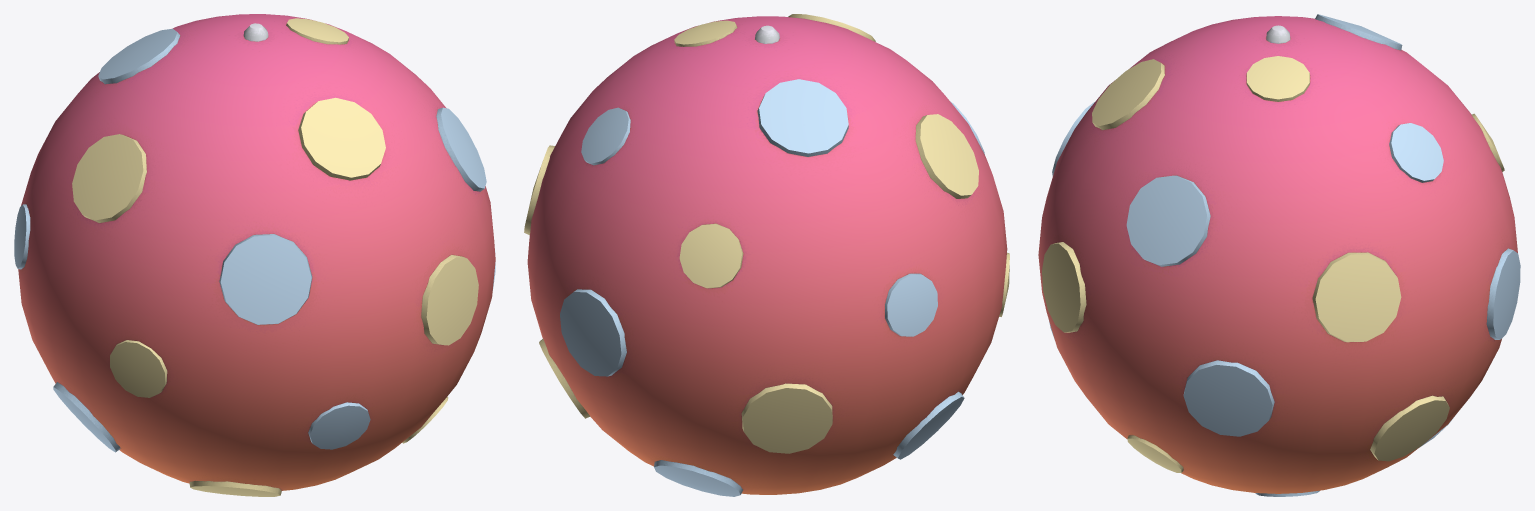
Rendered from dash_ball.fbx.
3 views of the same model, side by side, from view 1: azimuth 30°, elevation 25°; view 2: azimuth 150°, elevation 25°; view 3: azimuth 270°, elevation 25° (orthographic).
Visible parts, largest first — view 1: dash_ball; view 2: dash_ball; view 3: dash_ball.
Part boxes in pixels (<box>): dash_ball: <box>14,14,495,496</box>; dash_ball: <box>524,14,1009,496</box>; dash_ball: <box>1038,14,1520,496</box>.
Bounding box in the file's own units: 1206 × 1228 × 1206.
1 material, 1 textured.
